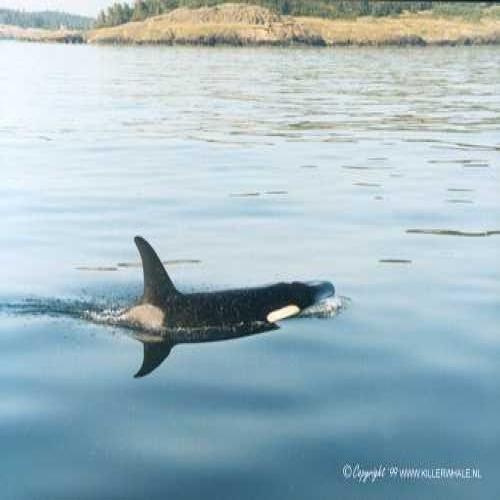killer_whale-endangered: (100, 219, 355, 354)
